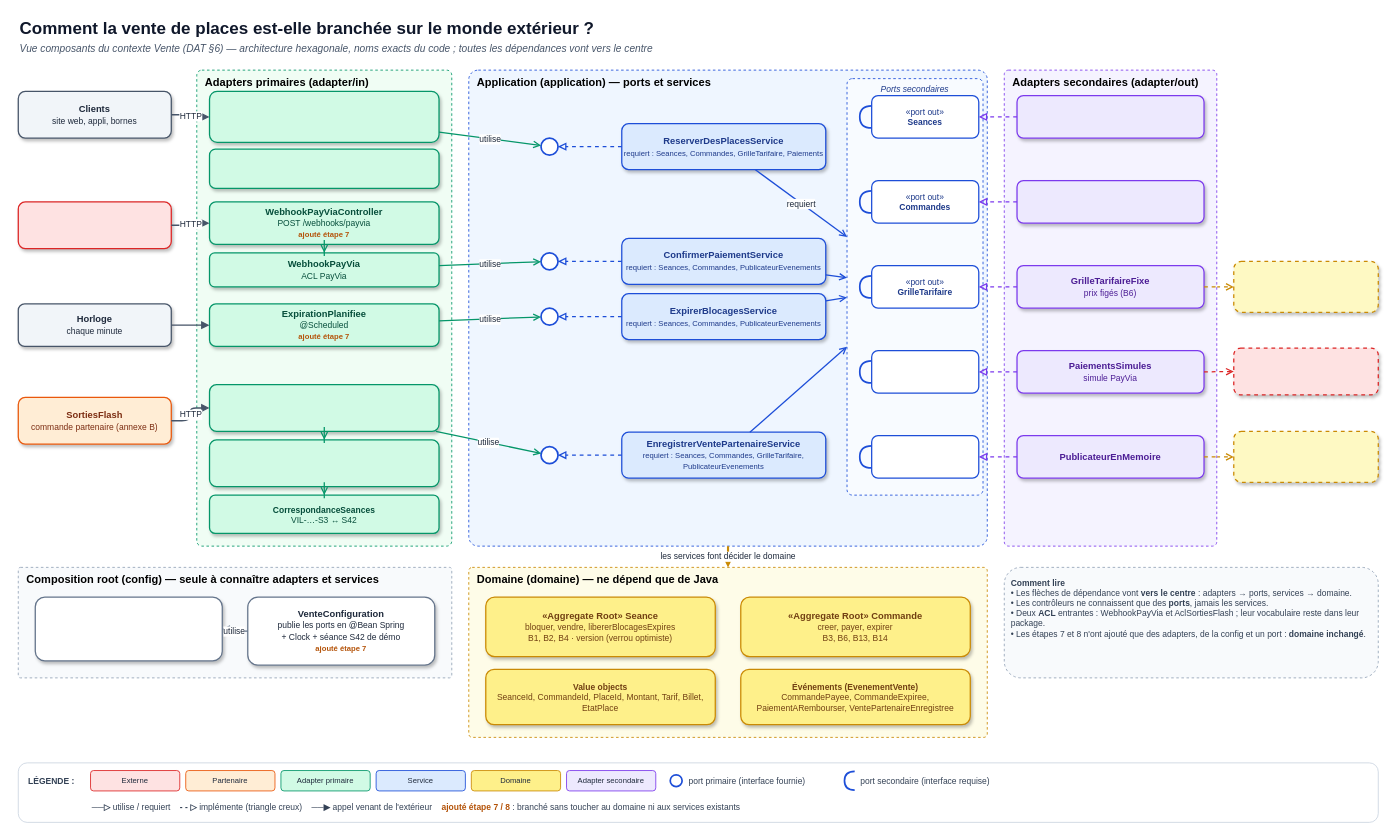
The diagram is 1399 pixels wide and 837 high, and some of its shapes have lost their labels. The centre of each missing label's shape, as x and y in pixels:
"AclSortiesFlash ACL : ADULT→PLEIN, show_ref→SeanceId… ajouté étape 8" goes at pixel 324 464.
"ApplicationVente assemble tout en Java pur (utilisée par les tests)" goes at pixel 129 630.
"CommandesEnMemoire" goes at pixel 1111 202.
"Contexte Tarification remplacera GrilleTarifaireFixe (ADR-0001)" goes at pixel 1306 288.
"Contrôle d'accès, CNC, Notification lisent les événements" goes at pixel 1306 458.
"GestionErreurs exceptions → 409 / 404 / 422 / 400 ajouté étape 7" goes at pixel 324 169.
"PayVia API de paiement" goes at pixel 1306 372.
"PayVia notification de paiement" goes at pixel 95 226.
"ReservationController REST · POST /seances/{seance}/reservations ajouté étape 7" goes at pixel 324 118.
"SeancesEnMemoire verrou optimiste → ConflitDeVersion" goes at pixel 1111 117.
"SortiesFlashController POST /partner/v2/orders ajouté étape 8" goes at pixel 324 409.
"«port in» ConfirmerPaiement" goes at pixel 549 261.
"«port in» EnregistrerVentePartenaire nouveau port étape 8" goes at pixel 549 454.
"«port in» ExpirerBlocages" goes at pixel 549 316.
"«port in» ReserverDesPlaces" goes at pixel 549 146.
"«port out» Paiements" goes at pixel 925 371.
"«port out» PublicateurEvenements" goes at pixel 925 456.
